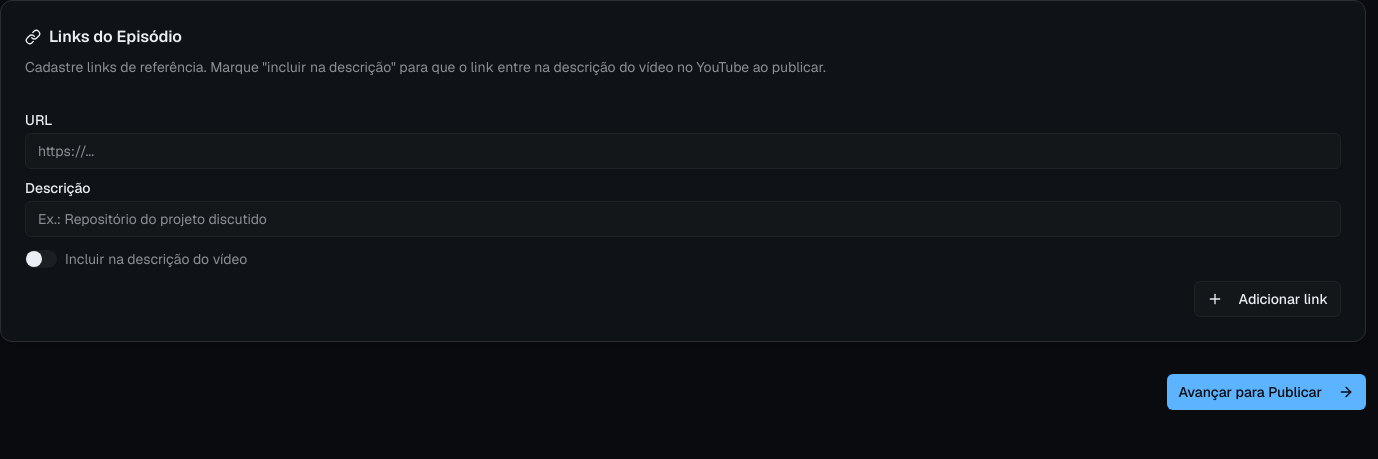
Scenario: PhaseLinks (Epic 26) › rejects an invalid URL without persisting
In the field labelled "URL": (683, 151) [25,133,1341,169], type "not-a-url"
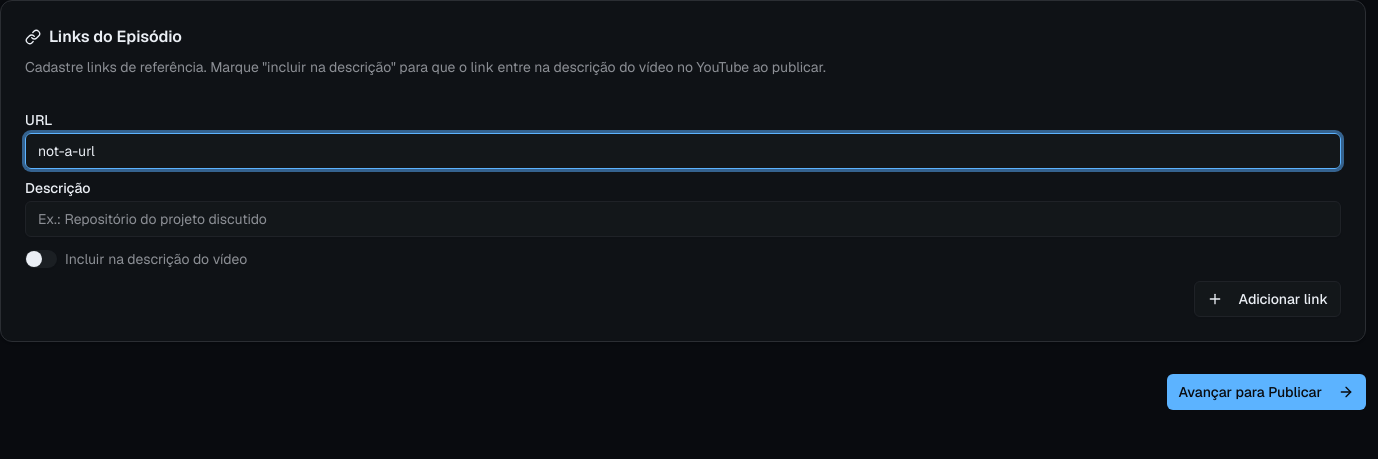
In the field labelled "Descrição": (683, 219) [25,201,1341,237], type "Algo"
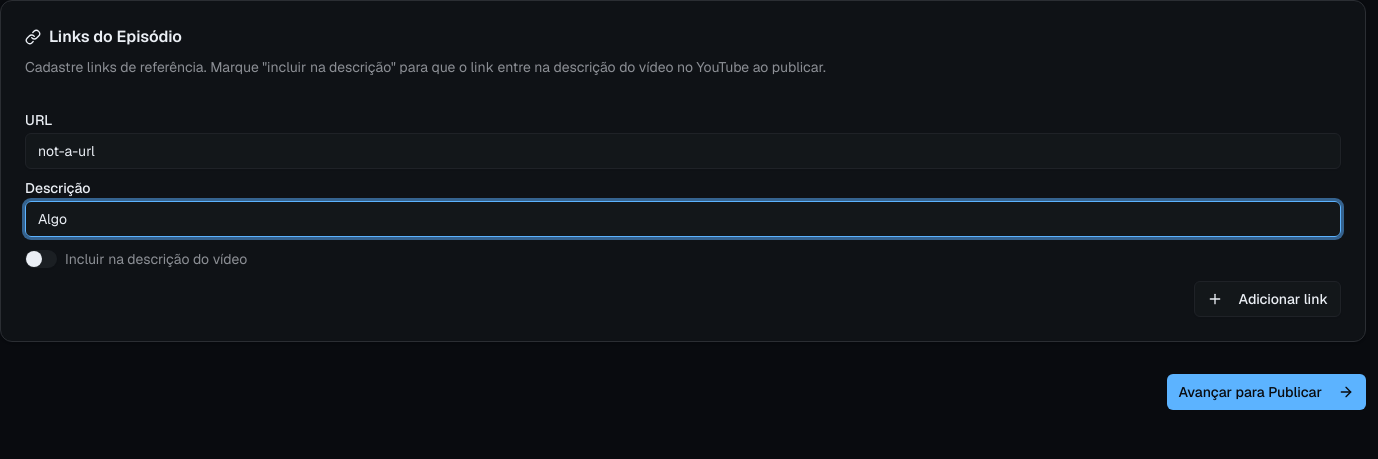
Click the button "Adicionar link": click(1267, 299) [1194,281,1341,317]
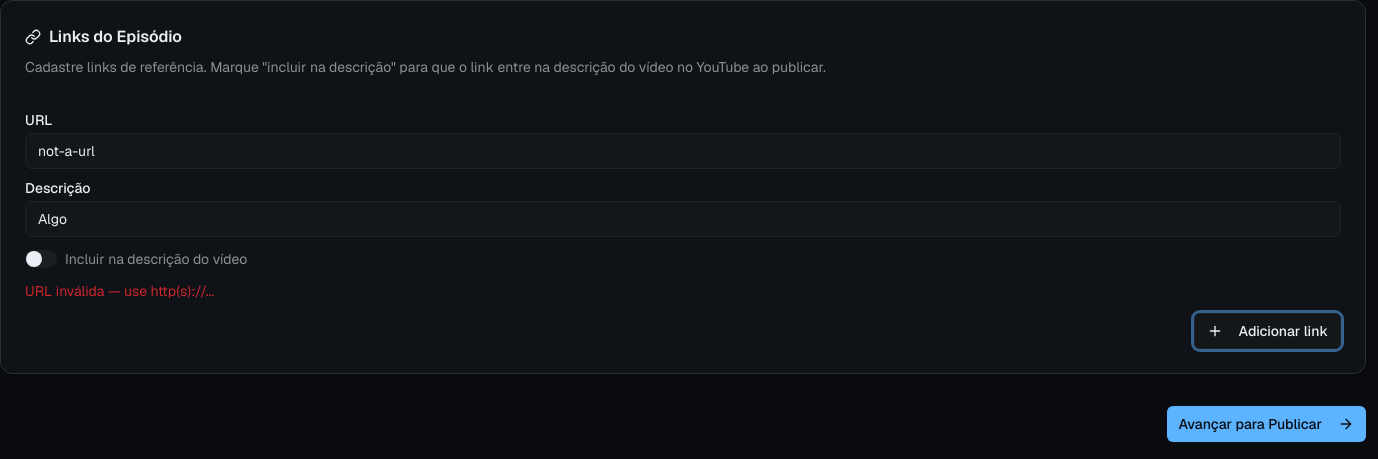
Now the text "URL inválida — use http(s)://..." is shown, box [25,282,214,300]
